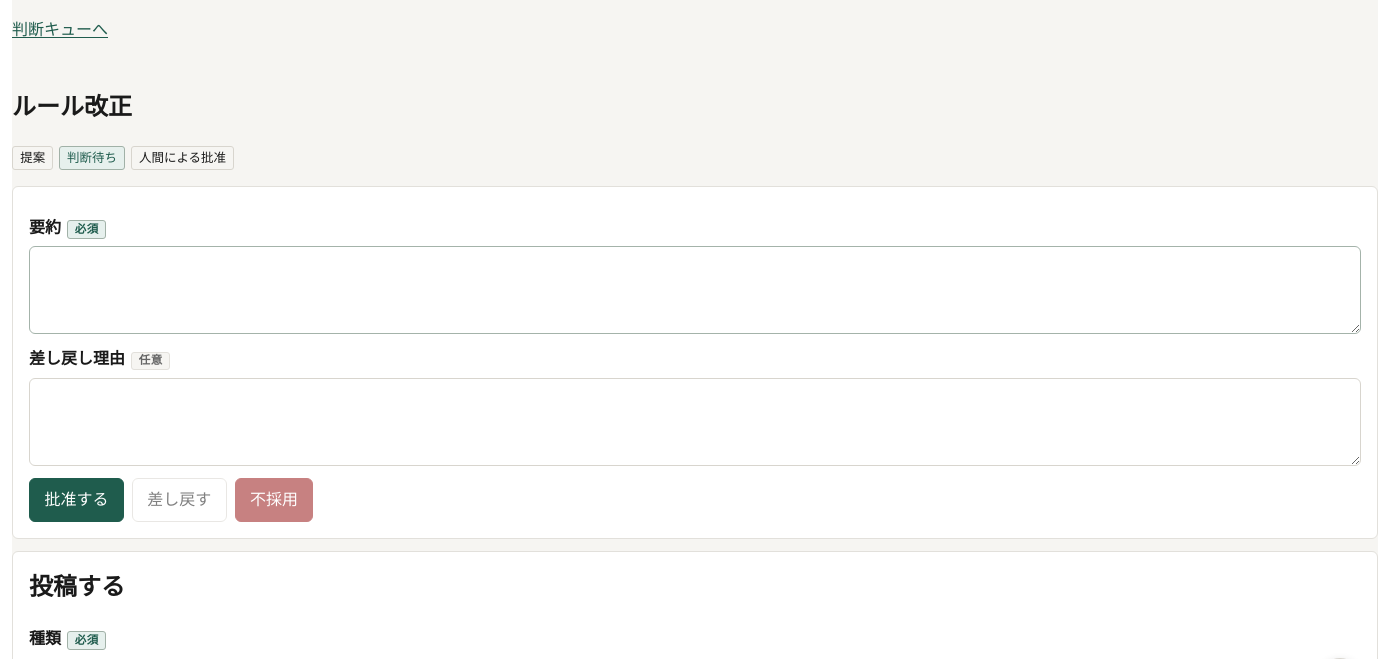
Scenario: ThreadPage › cancels reject confirmation without declaring
Expected: the heading "ルール改正" is shown, [12,93,132,120]
Type "現時点では不採用" into the text box labelled "要約" at (695, 290), box [29,246,1361,334]
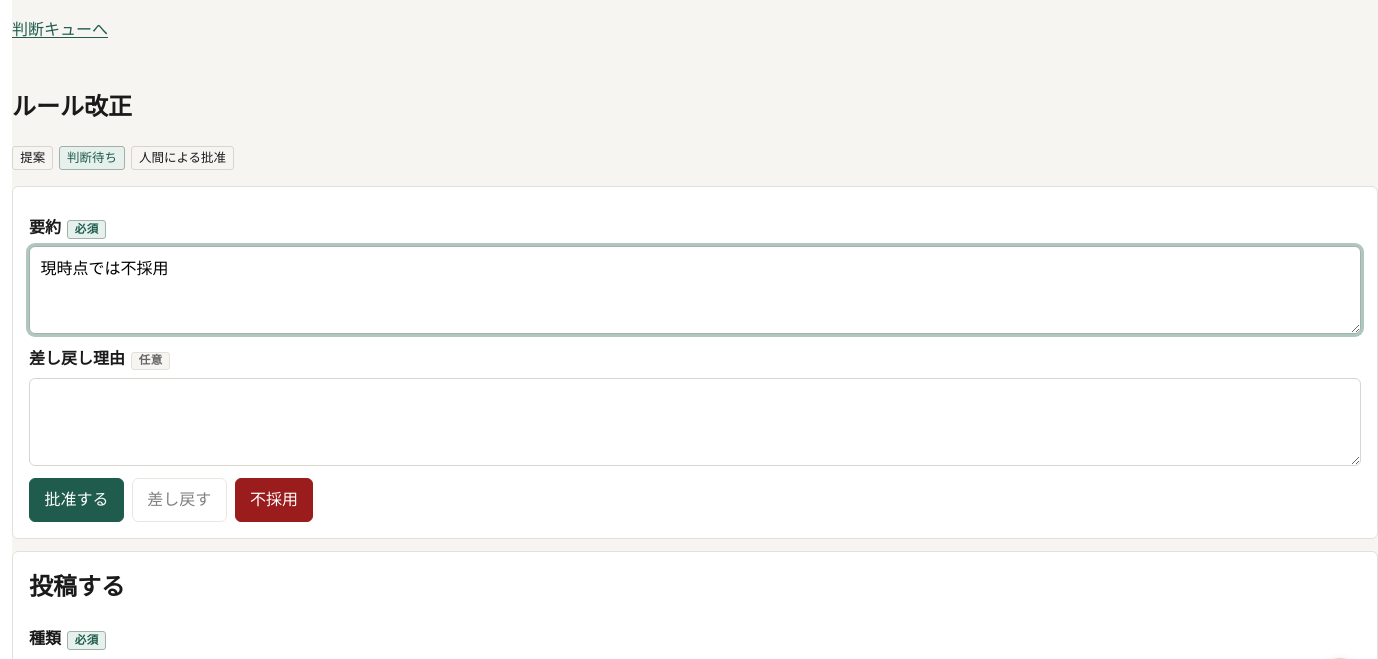
Click the button "不採用" at (274, 500), box [235,478,313,522]
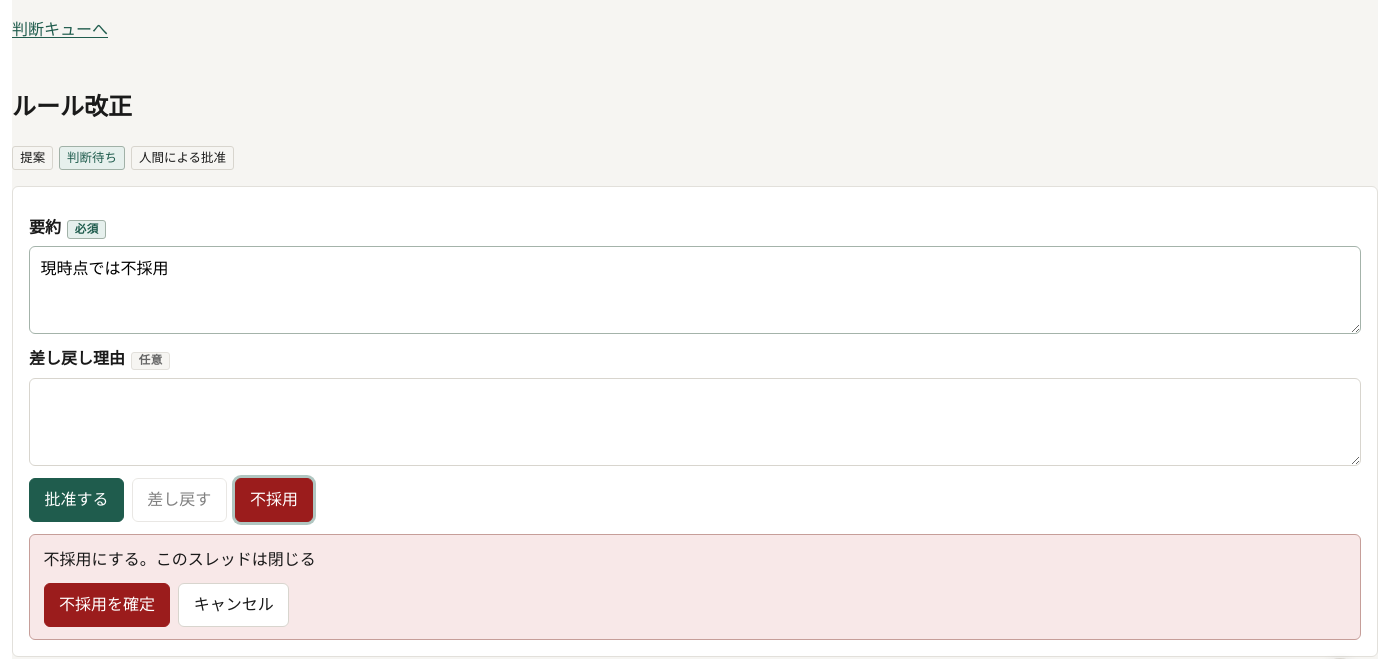
Click the button "キャンセル" at (234, 605), box [178,583,289,627]
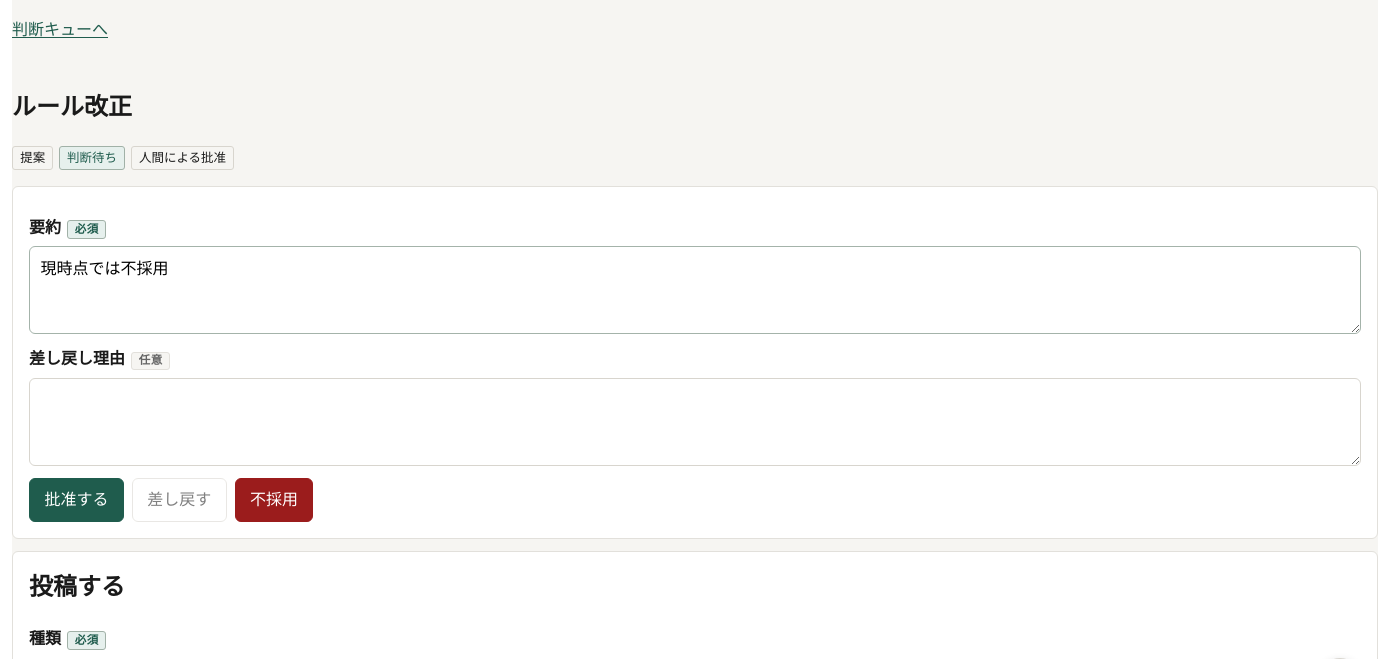
Now the text "不採用にする。このスレッドは閉じる" is gone
